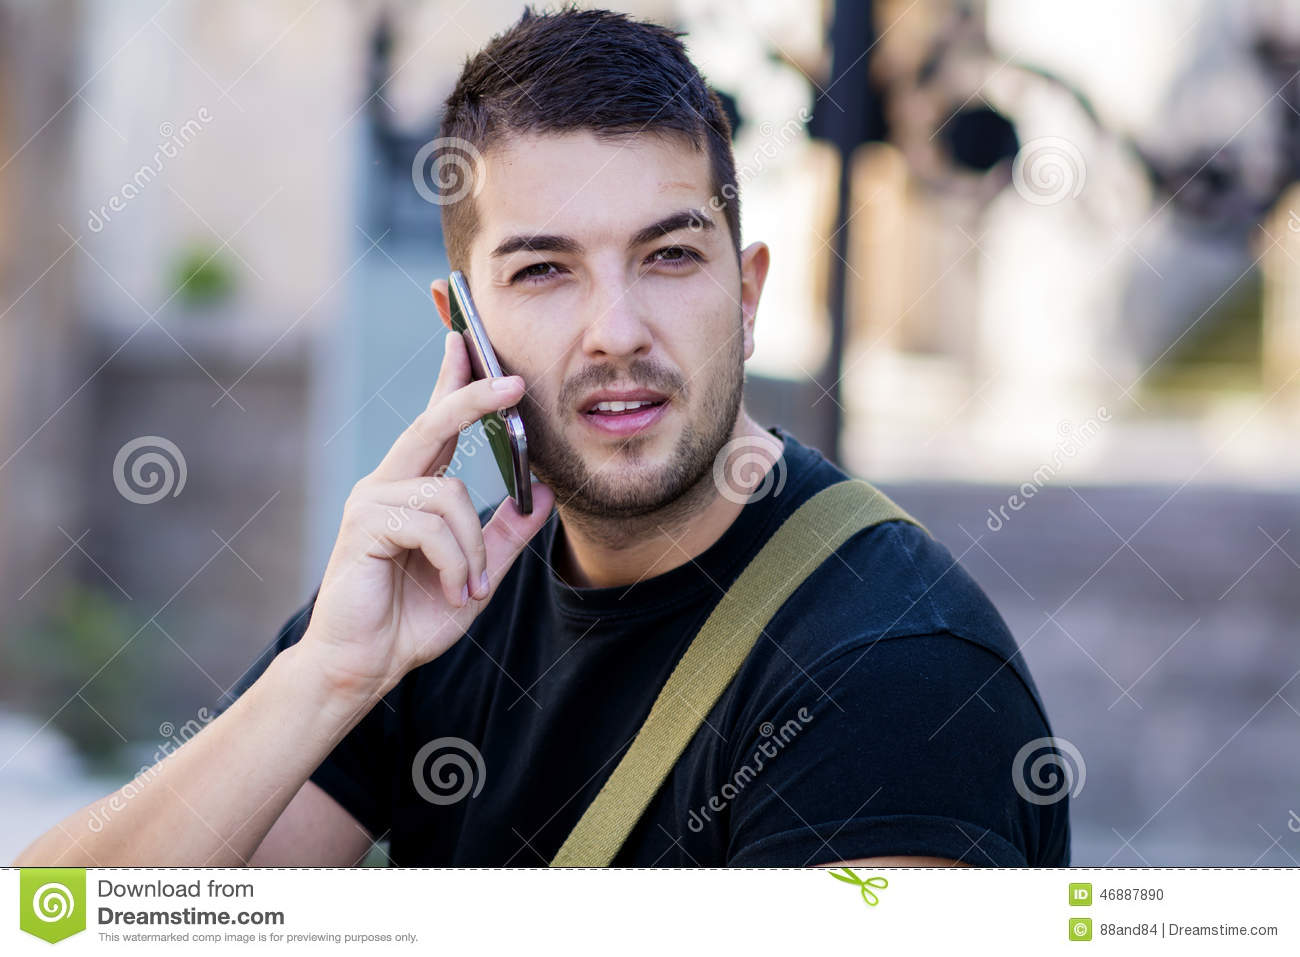phone: (429, 271, 540, 504)
talk: (314, 203, 746, 706)
